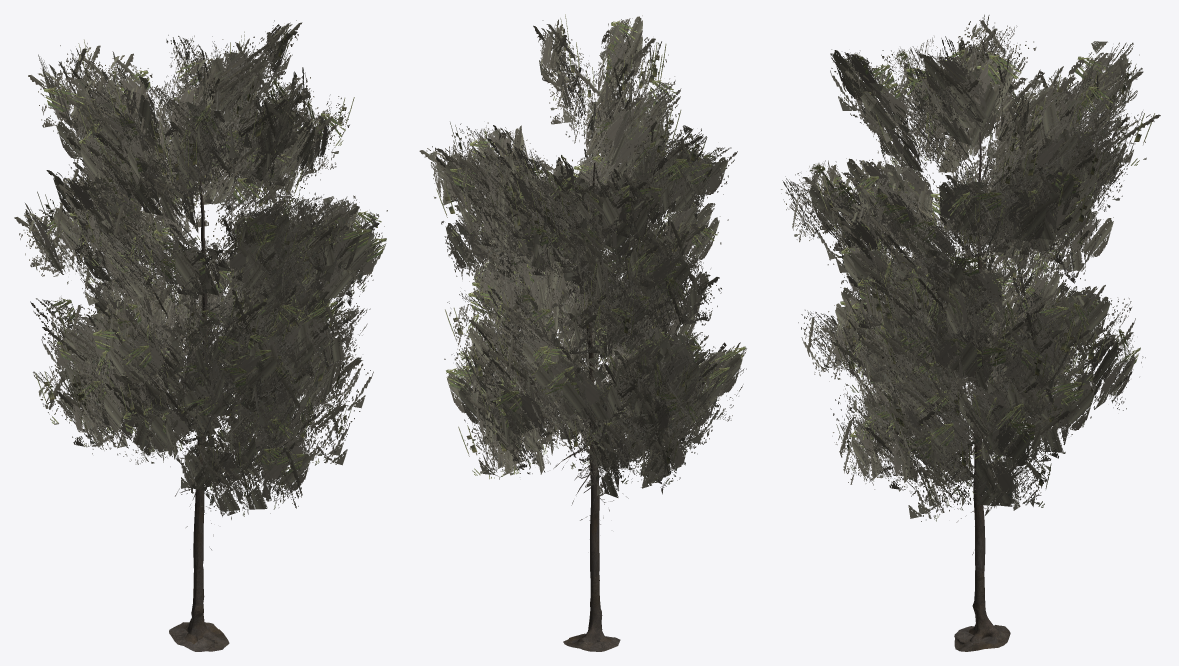
File: pine-tree.glb
The picture shows the model from 3 angles, left to right: view 1: azimuth 30°, elevation 25°; view 2: azimuth 150°, elevation 25°; view 3: azimuth 270°, elevation 25°; orthographic projection. The views are drawn at different scales.
Visible parts, largest first — view 1: pine; view 2: pine; view 3: pine.
Boxes of the visible parts, x1,y1,x2,y2 form: pine: (14,20,387,651); pine: (419,14,746,651); pine: (781,14,1160,651).
Bounding box in the file's own units: 8.28 × 15.4 × 8.6.
Materials: 2 (2 with a texture image).
